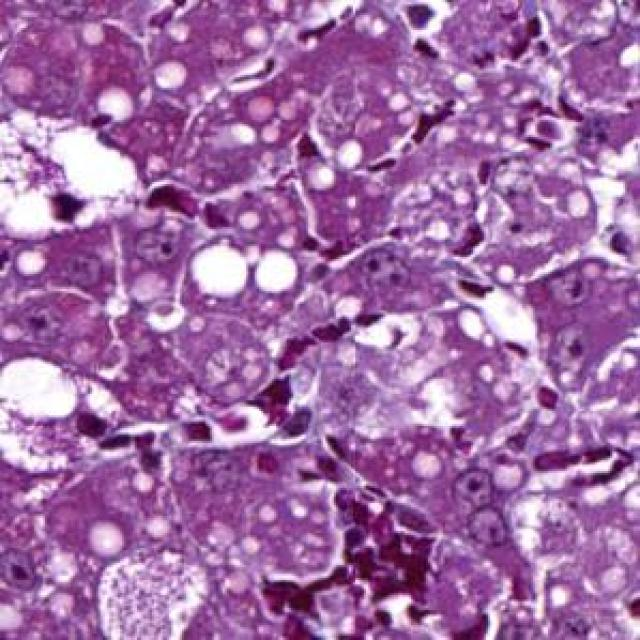ballooning: (6, 105, 148, 248), (9, 349, 130, 484)
